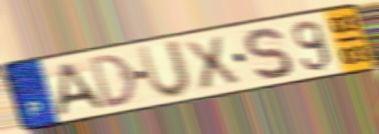9: (292, 18, 332, 73)
A: (54, 60, 107, 119)
D: (86, 52, 139, 111)
S: (242, 26, 295, 83)
U: (135, 37, 195, 101)
X: (180, 33, 245, 93)
